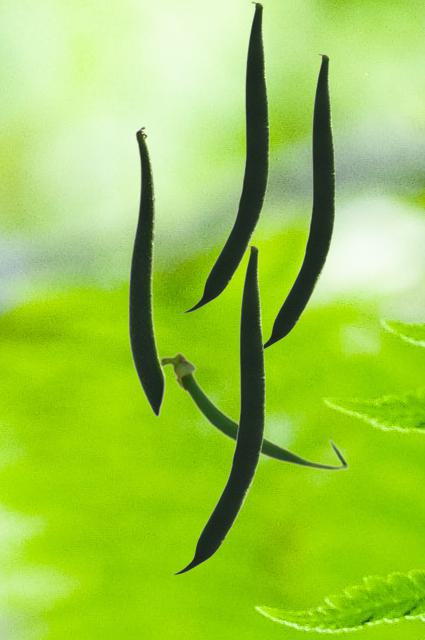french_bean: (172, 245, 264, 574), (182, 1, 268, 312), (160, 350, 349, 471), (264, 53, 334, 349), (127, 125, 165, 417)
